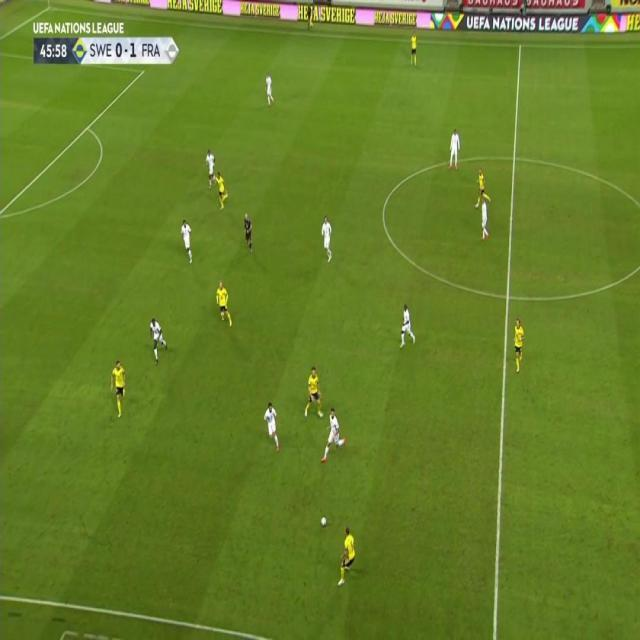ball: (320, 514, 328, 527)
player: (321, 406, 347, 465), (336, 527, 357, 589), (303, 367, 325, 422), (109, 357, 128, 419), (147, 316, 168, 365), (262, 401, 281, 453), (511, 317, 527, 375), (214, 279, 233, 327), (399, 302, 417, 350), (179, 218, 195, 267), (320, 214, 335, 264), (474, 168, 491, 209), (478, 194, 491, 243), (447, 127, 461, 172), (215, 172, 229, 214), (205, 147, 217, 188), (265, 72, 275, 107), (410, 30, 419, 67)
referee: (242, 211, 254, 254), (306, 6, 315, 31)
